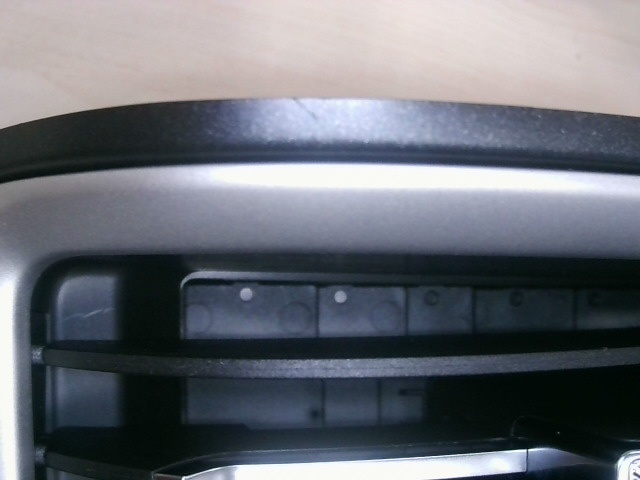NG: (284, 91, 341, 149)
